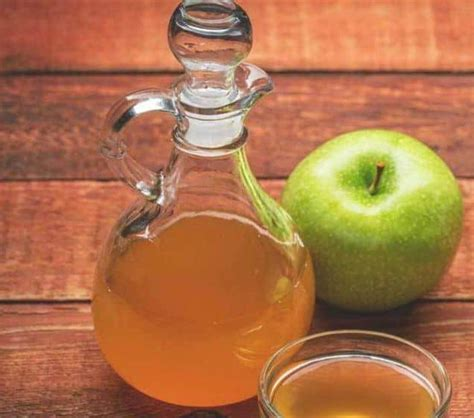apple: (280, 129, 465, 313)
